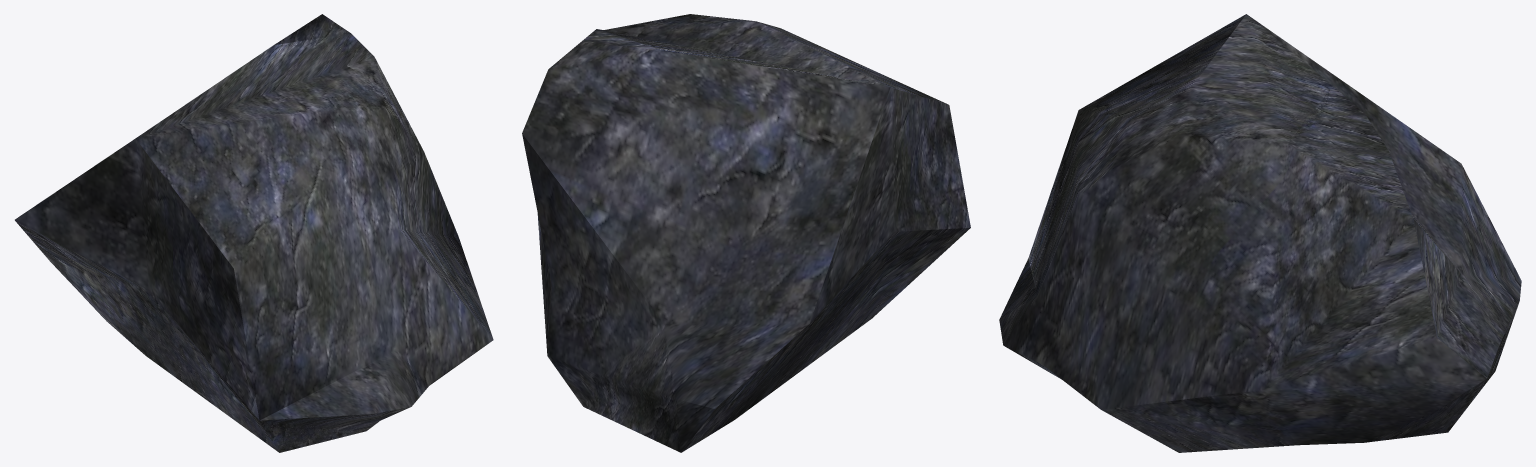
Rendered from pir_m_prp_vol_rock_b.fbx.
3 views of the same model, side by side, from view 1: azimuth 30°, elevation 25°; view 2: azimuth 150°, elevation 25°; view 3: azimuth 270°, elevation 25° (orthographic). The views are drawn at different scales.
Visible parts, largest first — view 1: lod_high; view 2: lod_high; view 3: lod_high.
Part boxes in pixels (x1=…): lod_high: x1=15, y1=14, x2=493, y2=452; lod_high: x1=522, y1=14, x2=970, y2=452; lod_high: x1=999, y1=14, x2=1521, y2=452.
Size of the model in its own units: 2454 by 2080 by 2902.
Materials: 1 (1 with a texture image).
